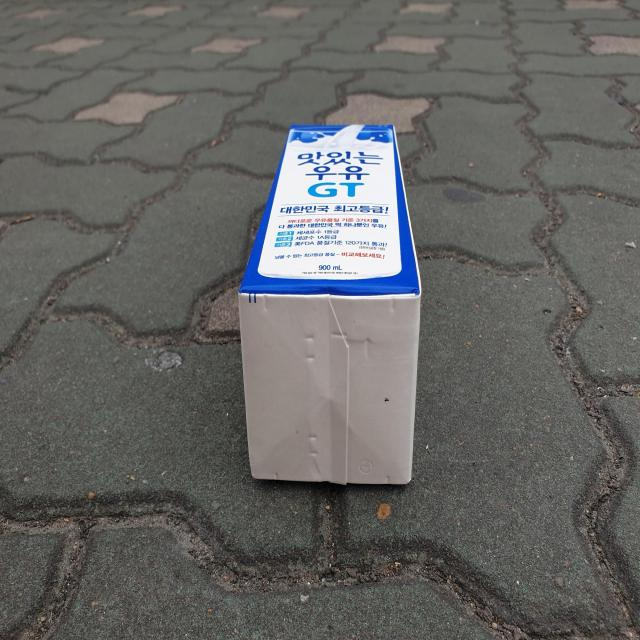paperpack: (239, 124, 421, 485)
